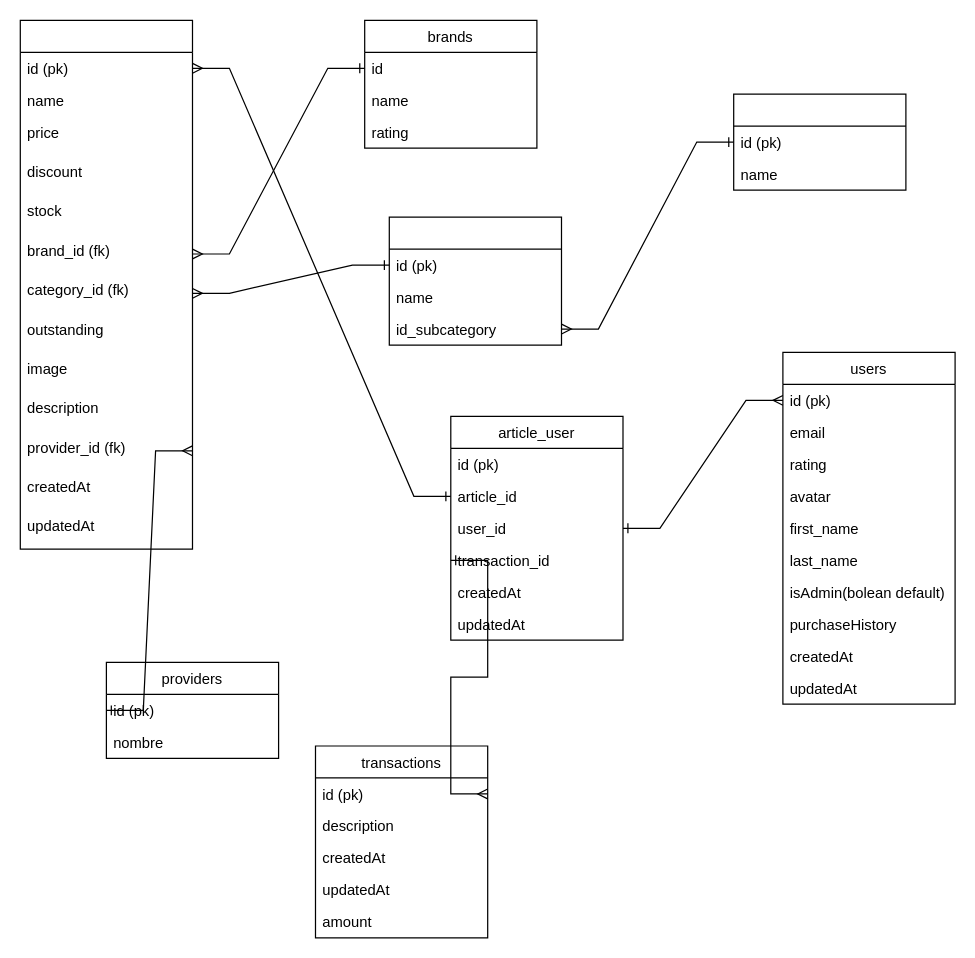
This 975x958 diagram has some shape labels left out. Here are the shapes that lost their labels. From the top down, the box of each, then its label:
(732, 93, 906, 190): subcategories
(19, 19, 192, 549): articles
(388, 216, 561, 345): categories
